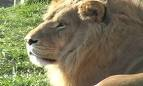lion: (25, 3, 142, 83)
